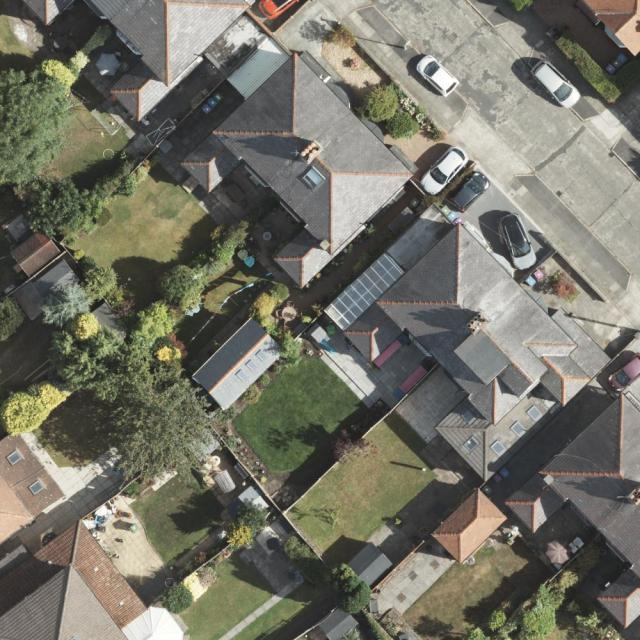roof: (321, 203, 612, 482), (181, 54, 417, 291), (504, 395, 640, 630), (0, 519, 185, 640), (84, 0, 253, 122), (189, 317, 286, 413), (0, 429, 67, 545), (431, 489, 506, 563), (575, 0, 640, 58), (19, 0, 79, 29)
skylight: (322, 251, 407, 333), (300, 165, 328, 194), (460, 406, 479, 425), (525, 404, 543, 421), (491, 439, 508, 456), (30, 479, 47, 496), (7, 449, 24, 466), (464, 436, 482, 452), (509, 421, 526, 437), (234, 368, 249, 382), (246, 359, 258, 371), (254, 350, 267, 361)
